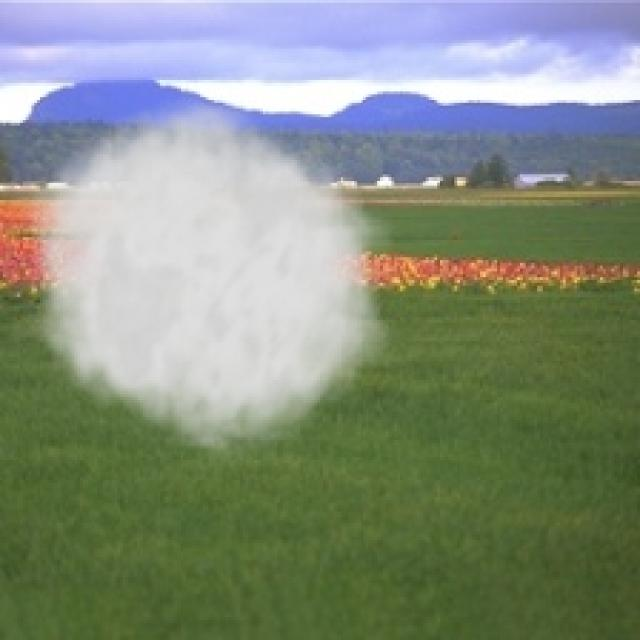smoke: (12, 89, 394, 468)
